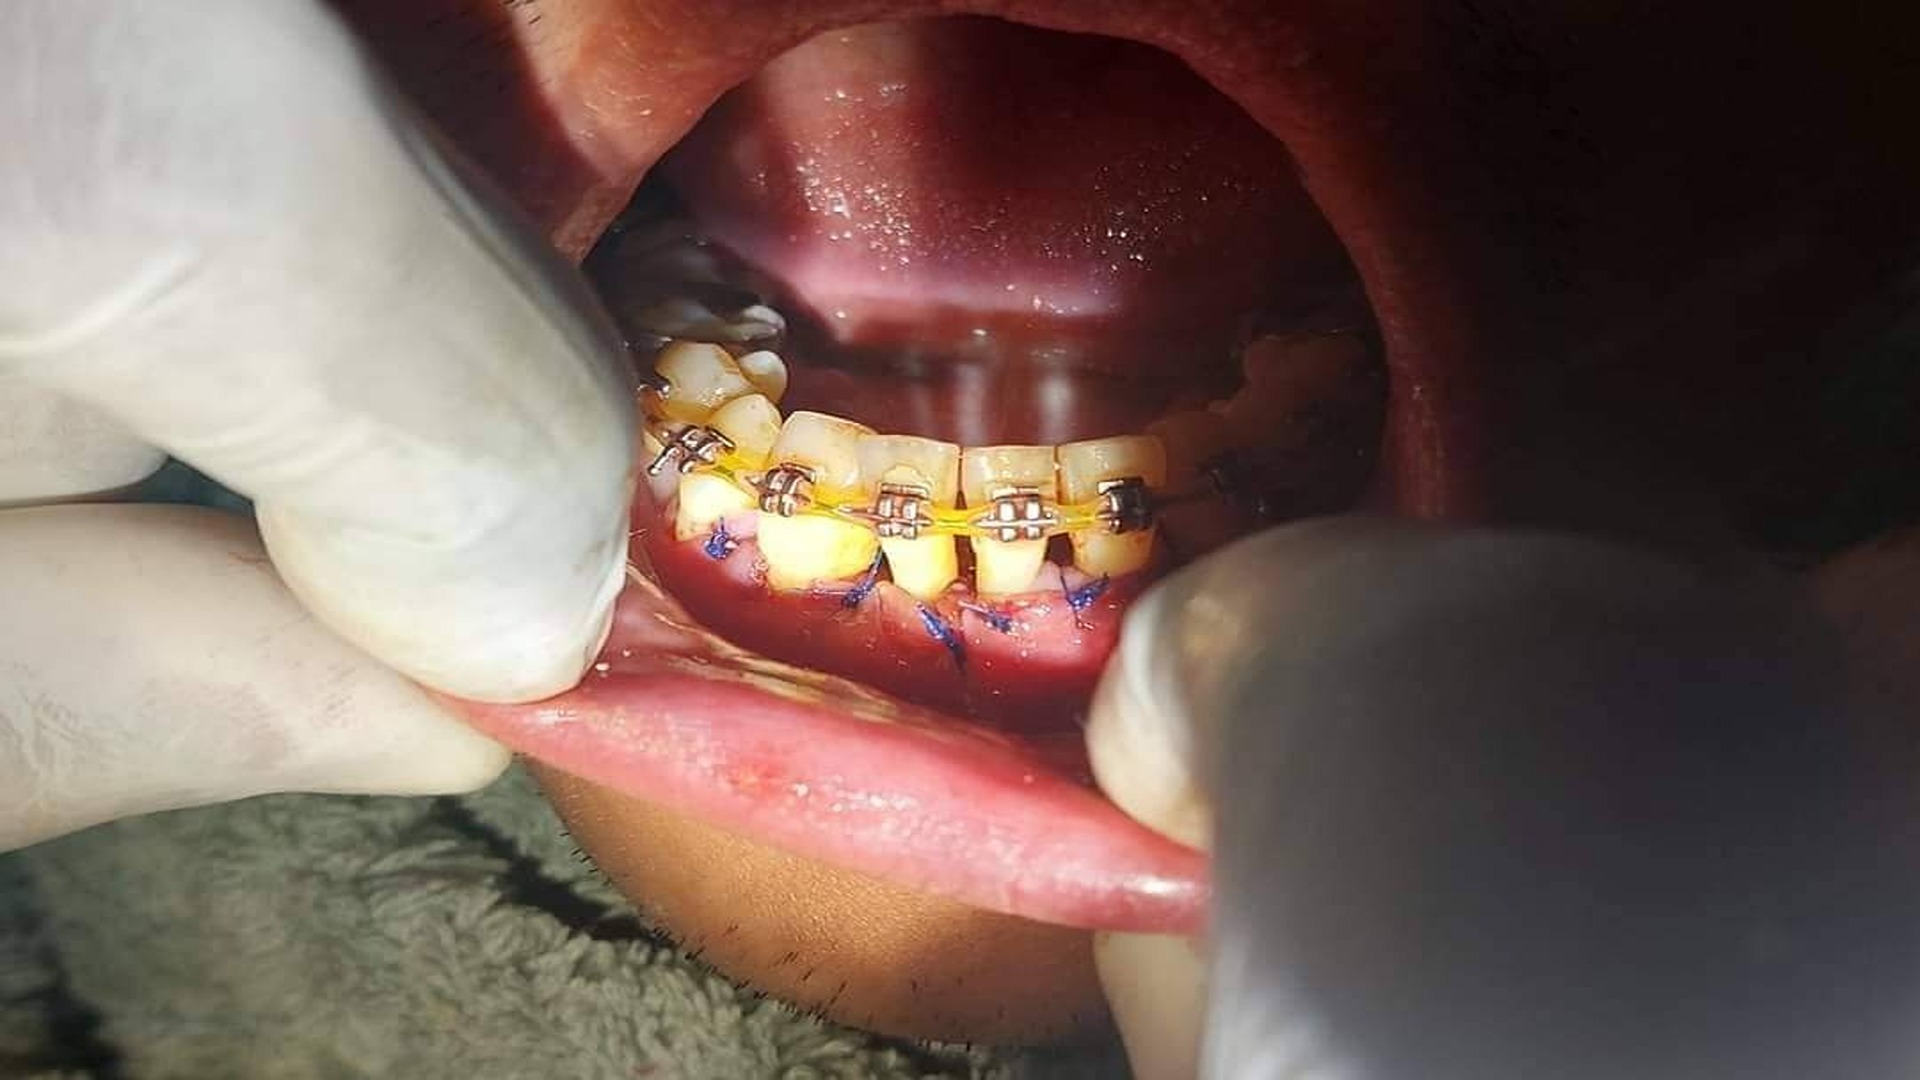tooth: (962, 447, 1062, 596)
